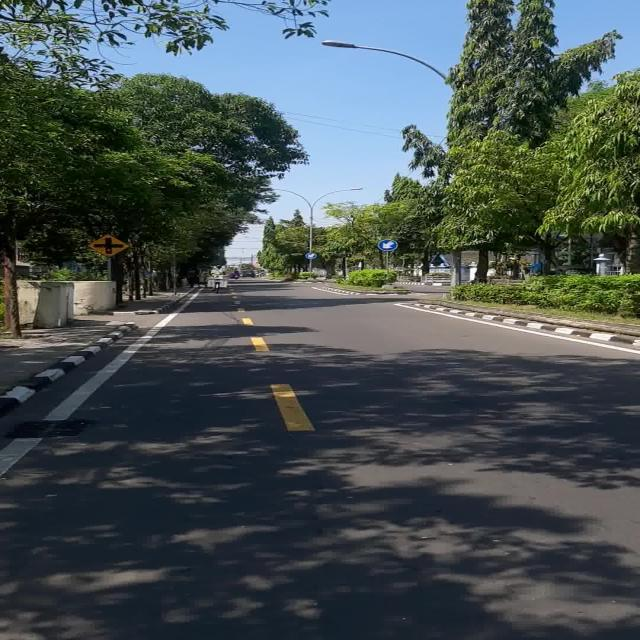Lajur Kiri: (377, 239, 398, 251)
